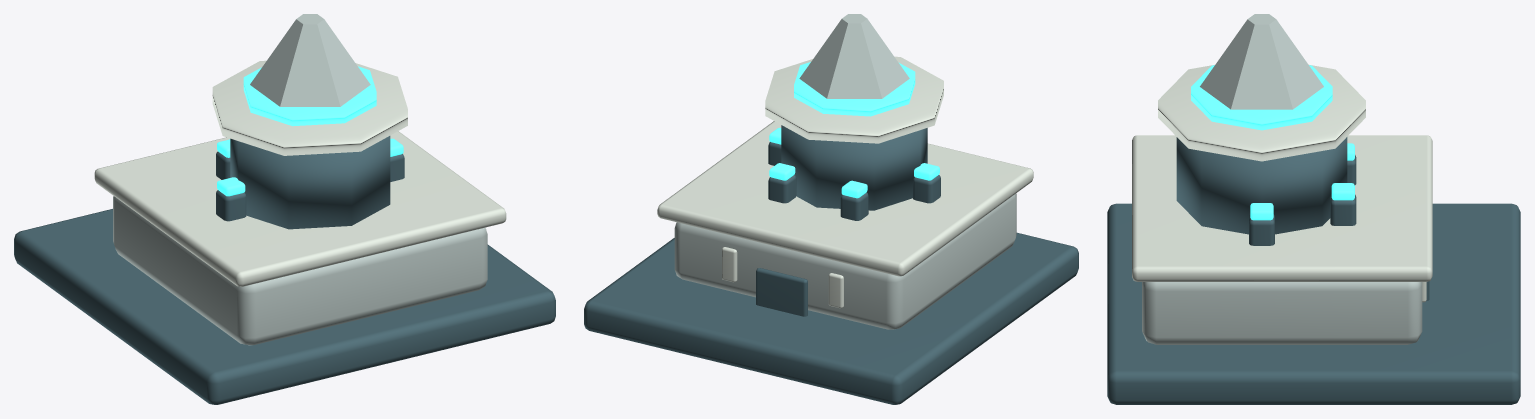
Rendered from warhead-temple.glb.
The picture shows the model from 3 angles, left to right: view 1: azimuth 30°, elevation 25°; view 2: azimuth 150°, elevation 25°; view 3: azimuth 270°, elevation 25°; orthographic projection. The views are drawn at different scales.
Parts seen in each view (by area): view 1: Temple foundation, Temple roof slab, Temple armored nave, Warhead silo casing, Silo armored rim, Temple crown, Warhead access lid, Temple buttress.003; view 2: Temple foundation, Temple roof slab, Temple armored nave, Warhead silo casing, Silo armored rim, Temple crown, Warhead access lid, Warhead temple entry, Temple buttress.001, Temple buttress.002, Temple buttress.003, Fallout vent (+1 smaller); view 3: Temple foundation, Temple roof slab, Temple armored nave, Warhead silo casing, Silo armored rim, Temple crown, Warhead access lid, Temple buttress.001, Temple buttress, Buttress warning light, Buttress warning light.001.
Part boxes in pixels (left/top/right/bottom): Temple foundation: left=14, top=209, right=555, bottom=404; Temple roof slab: left=94, top=131, right=506, bottom=286; Temple armored nave: left=113, top=196, right=487, bottom=345; Warhead silo casing: left=230, top=136, right=390, bottom=229; Silo armored rim: left=212, top=60, right=407, bottom=155; Temple crown: left=250, top=14, right=370, bottom=106; Warhead access lid: left=243, top=66, right=376, bottom=126; Temple buttress.003: left=216, top=190, right=246, bottom=221; Temple foundation: left=584, top=232, right=1078, bottom=404; Temple roof slab: left=657, top=121, right=1033, bottom=276; Temple armored nave: left=674, top=193, right=1016, bottom=329; Warhead silo casing: left=781, top=125, right=927, bottom=210; Silo armored rim: left=765, top=56, right=943, bottom=143; Temple crown: left=799, top=14, right=909, bottom=98; Warhead access lid: left=794, top=62, right=915, bottom=116; Warhead temple entry: left=756, top=268, right=807, bottom=316; Temple buttress.001: left=768, top=175, right=796, bottom=203; Temple buttress.002: left=840, top=192, right=868, bottom=220; Temple buttress.003: left=913, top=175, right=940, bottom=203; Fallout vent: left=828, top=273, right=843, bottom=308; Temple foundation: left=1107, top=203, right=1520, bottom=404; Temple roof slab: left=1132, top=135, right=1432, bottom=281; Temple armored nave: left=1142, top=282, right=1422, bottom=344; Warhead silo casing: left=1176, top=137, right=1347, bottom=234; Silo armored rim: left=1158, top=65, right=1365, bottom=161; Temple crown: left=1200, top=14, right=1323, bottom=109; Warhead access lid: left=1191, top=65, right=1332, bottom=130; Temple buttress.001: left=1330, top=194, right=1356, bottom=225; Temple buttress: left=1249, top=214, right=1274, bottom=245; Buttress warning light: left=1250, top=203, right=1273, bottom=220; Buttress warning light.001: left=1331, top=183, right=1354, bottom=200.
Bounding box in the file's own units: 2.86 × 2.3 × 2.86.
